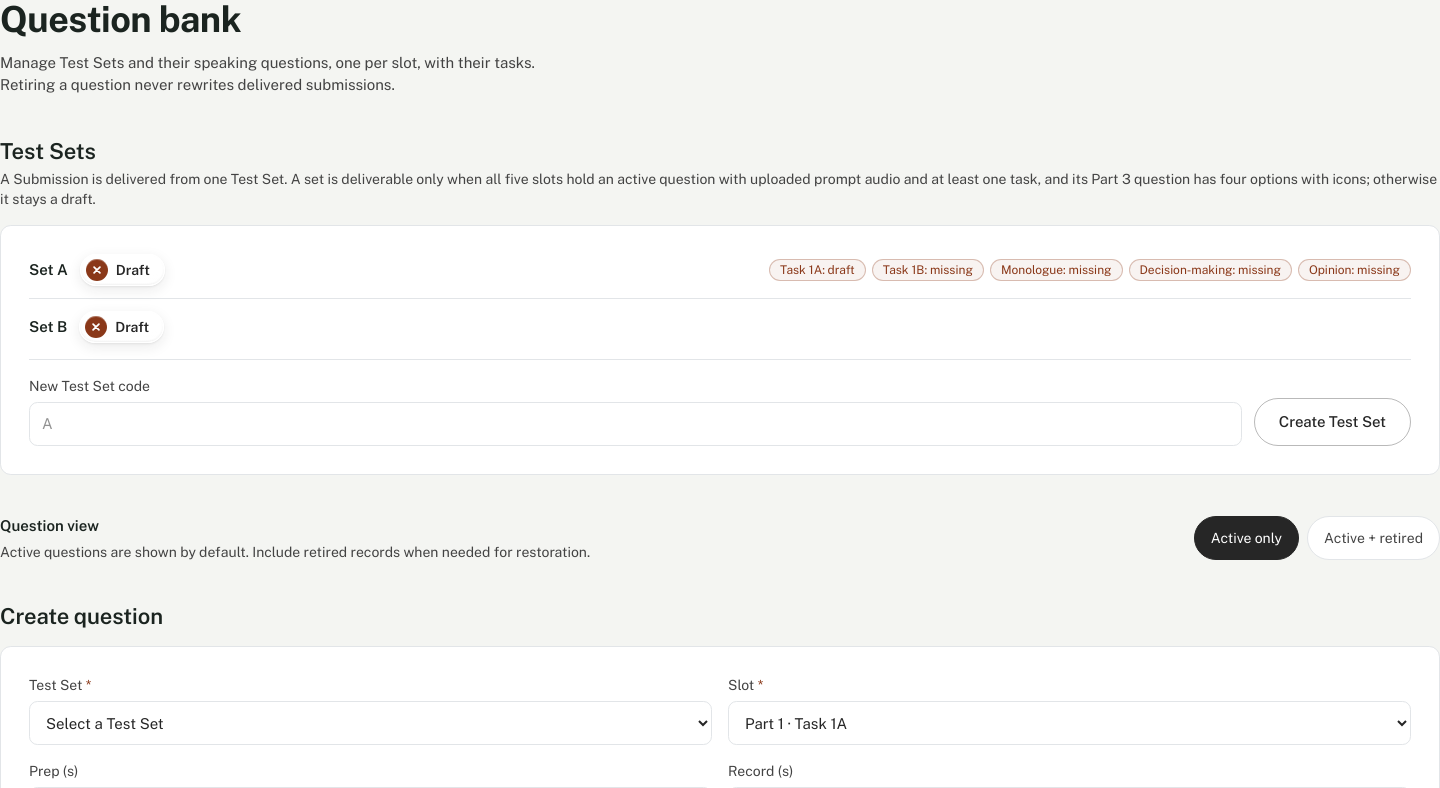
AdminQuestionsPage edit mode › restores a retired Question and reports the successful state transition
The image size is (1440, 788).
Click the button "Active + retired".
click(1374, 538)  # box x1=1307 y1=516 x2=1439 y2=560
(page scrolled)
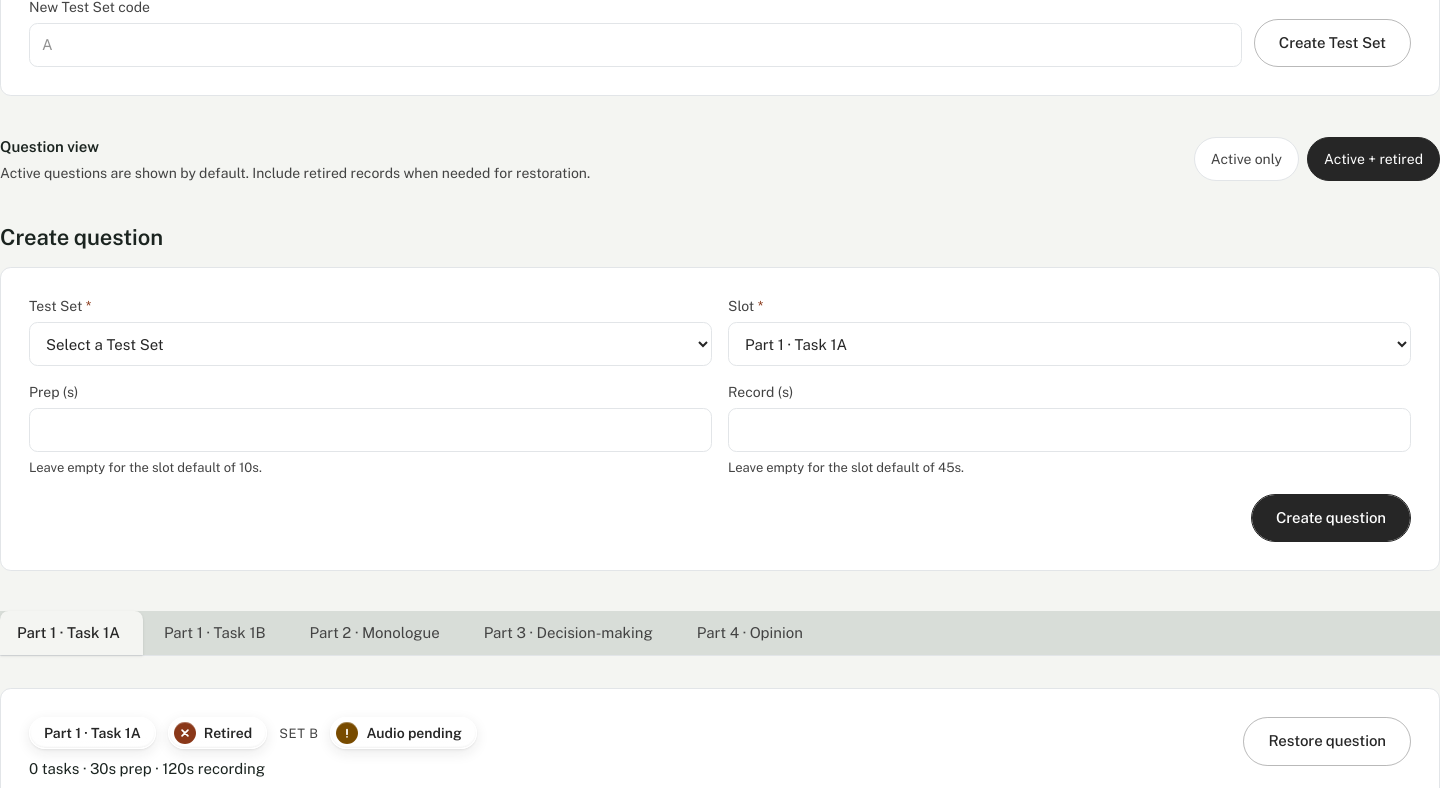
Click the button "Restore question".
click(1327, 742)  # box x1=1244 y1=717 x2=1411 y2=766
(page scrolled)
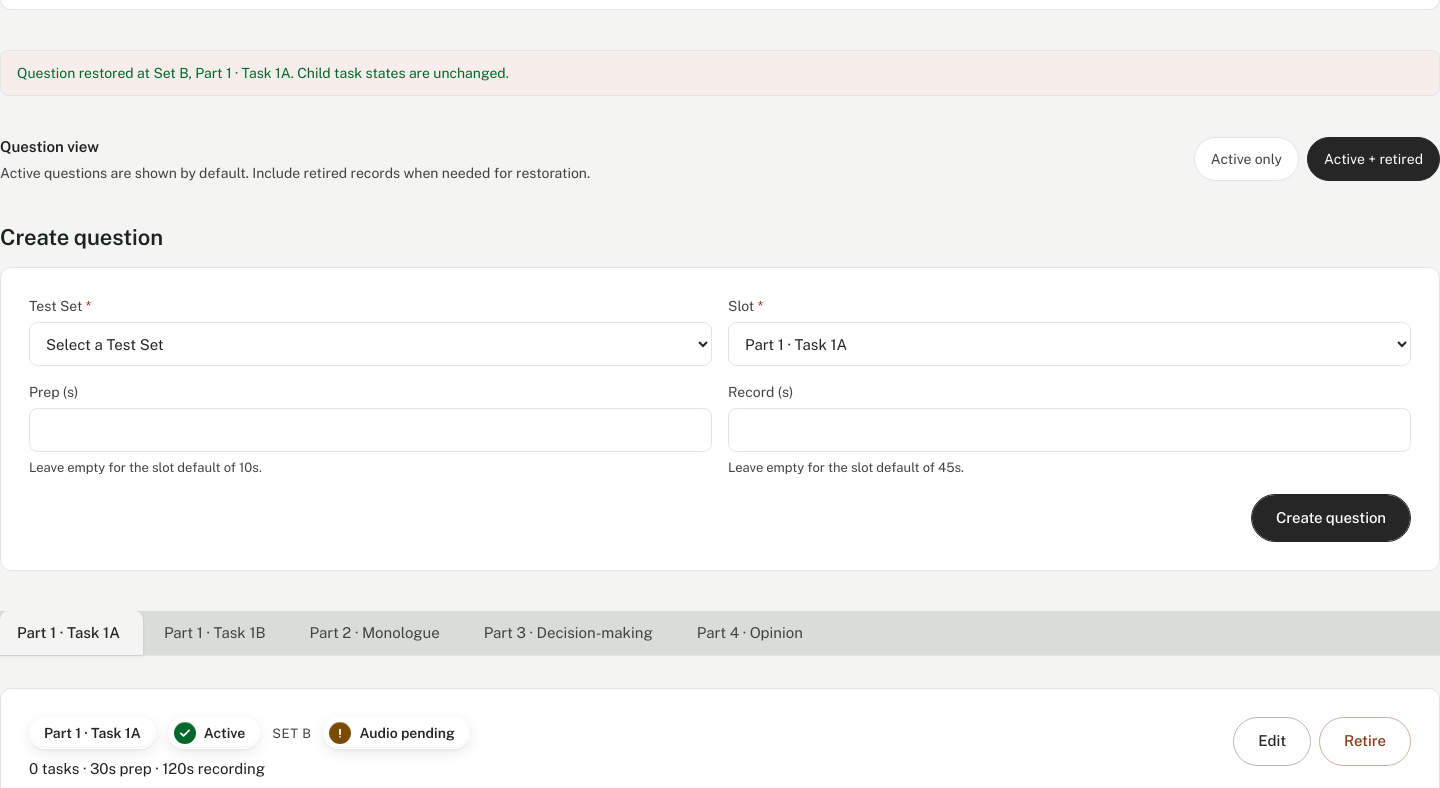
Now the text "Question restored at Set B, Part 1 · Task 1A. Child task states are unchanged." is shown, box x1=0 y1=50 x2=1439 y2=96
Now the text "Active" is shown, box x1=168 y1=717 x2=260 y2=749
Now the button "Restore question" is gone
